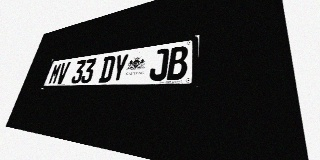3: (70, 59, 87, 84), (80, 58, 97, 83)
B: (167, 45, 189, 80)
D: (98, 55, 116, 83)
J: (148, 48, 169, 81)
M: (48, 63, 63, 84)
V: (55, 62, 71, 84)
Y: (110, 54, 129, 82)
